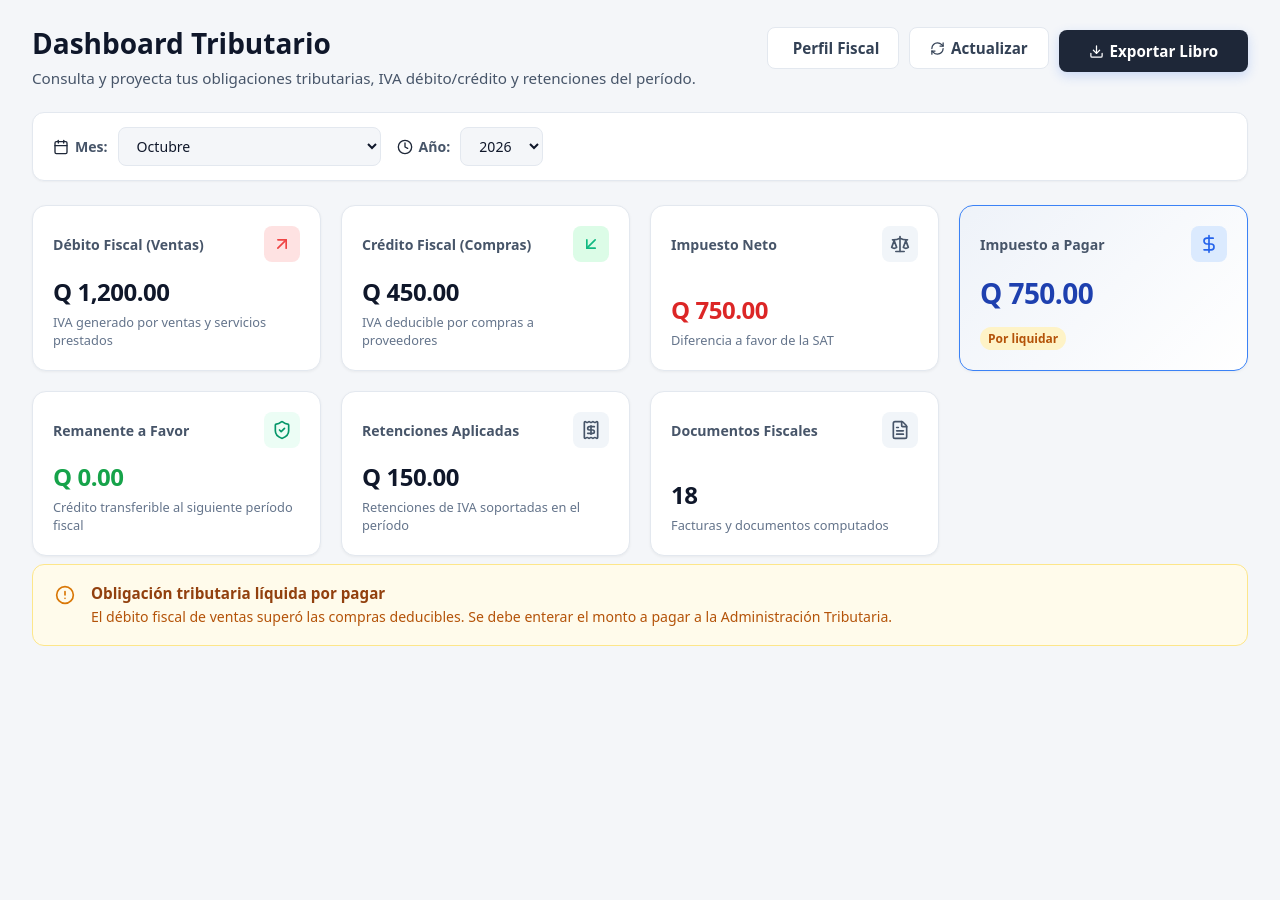
Scenario: SCRUM-671: exportación del Libro de Ventas › muestra Exportando mientras procesa la solicitud
Click the button "Exportar Libro" at (1153, 51), box [1059,30,1248,72]
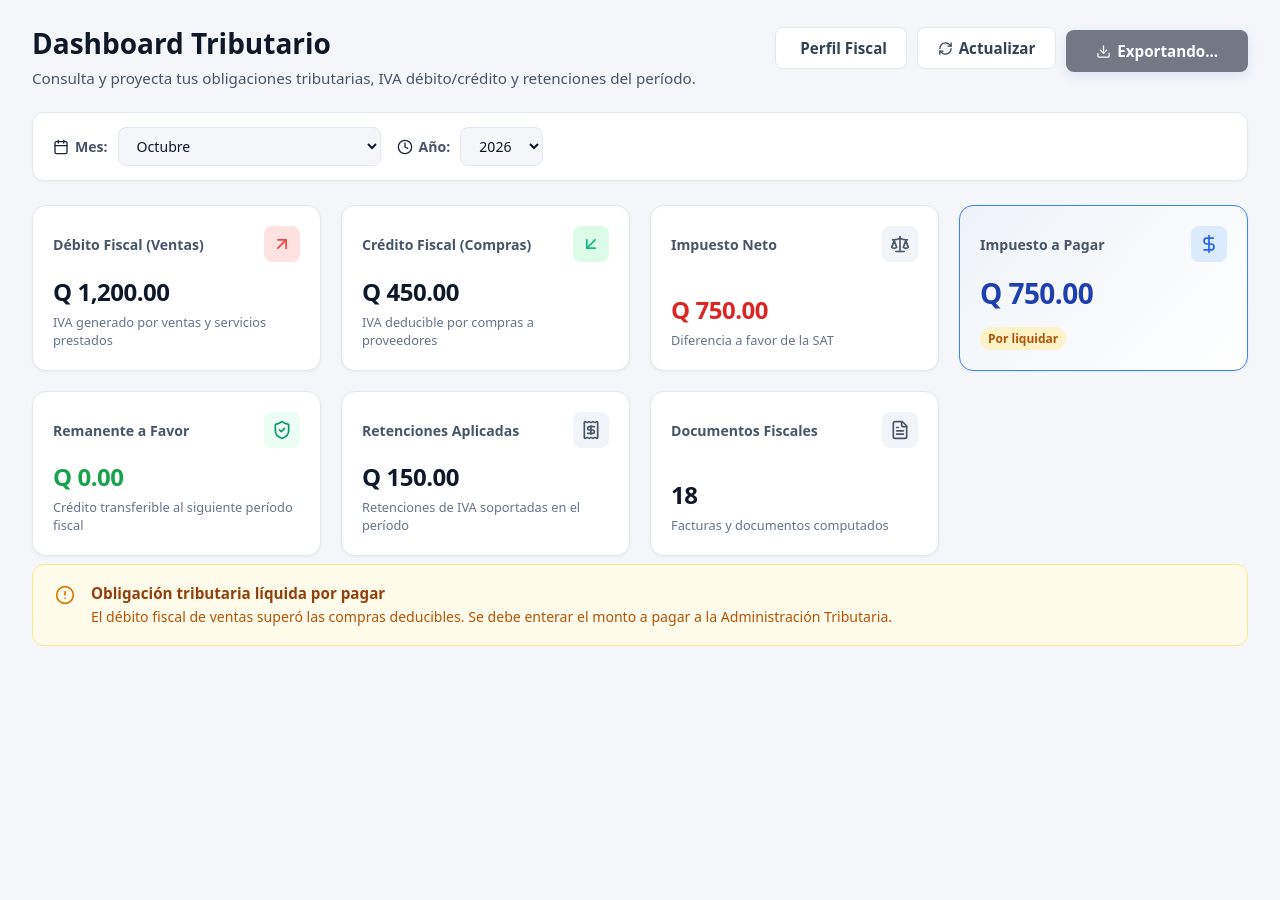
Now the text "Exportando..." is shown, box [1117,41,1218,61]
